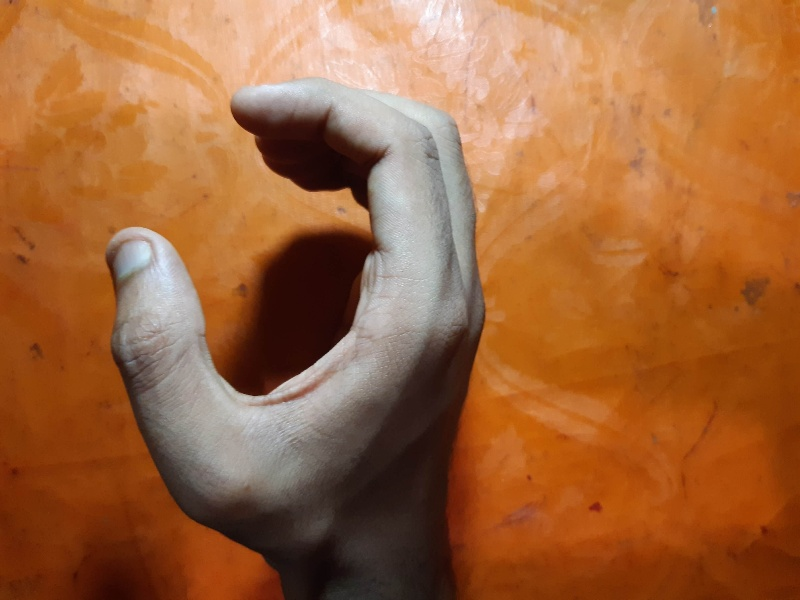one: (82, 46, 509, 575)
